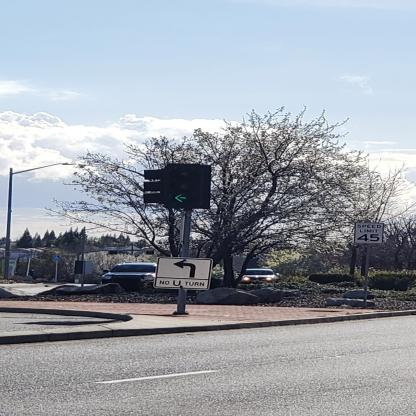left-green: (168, 164, 200, 206)
